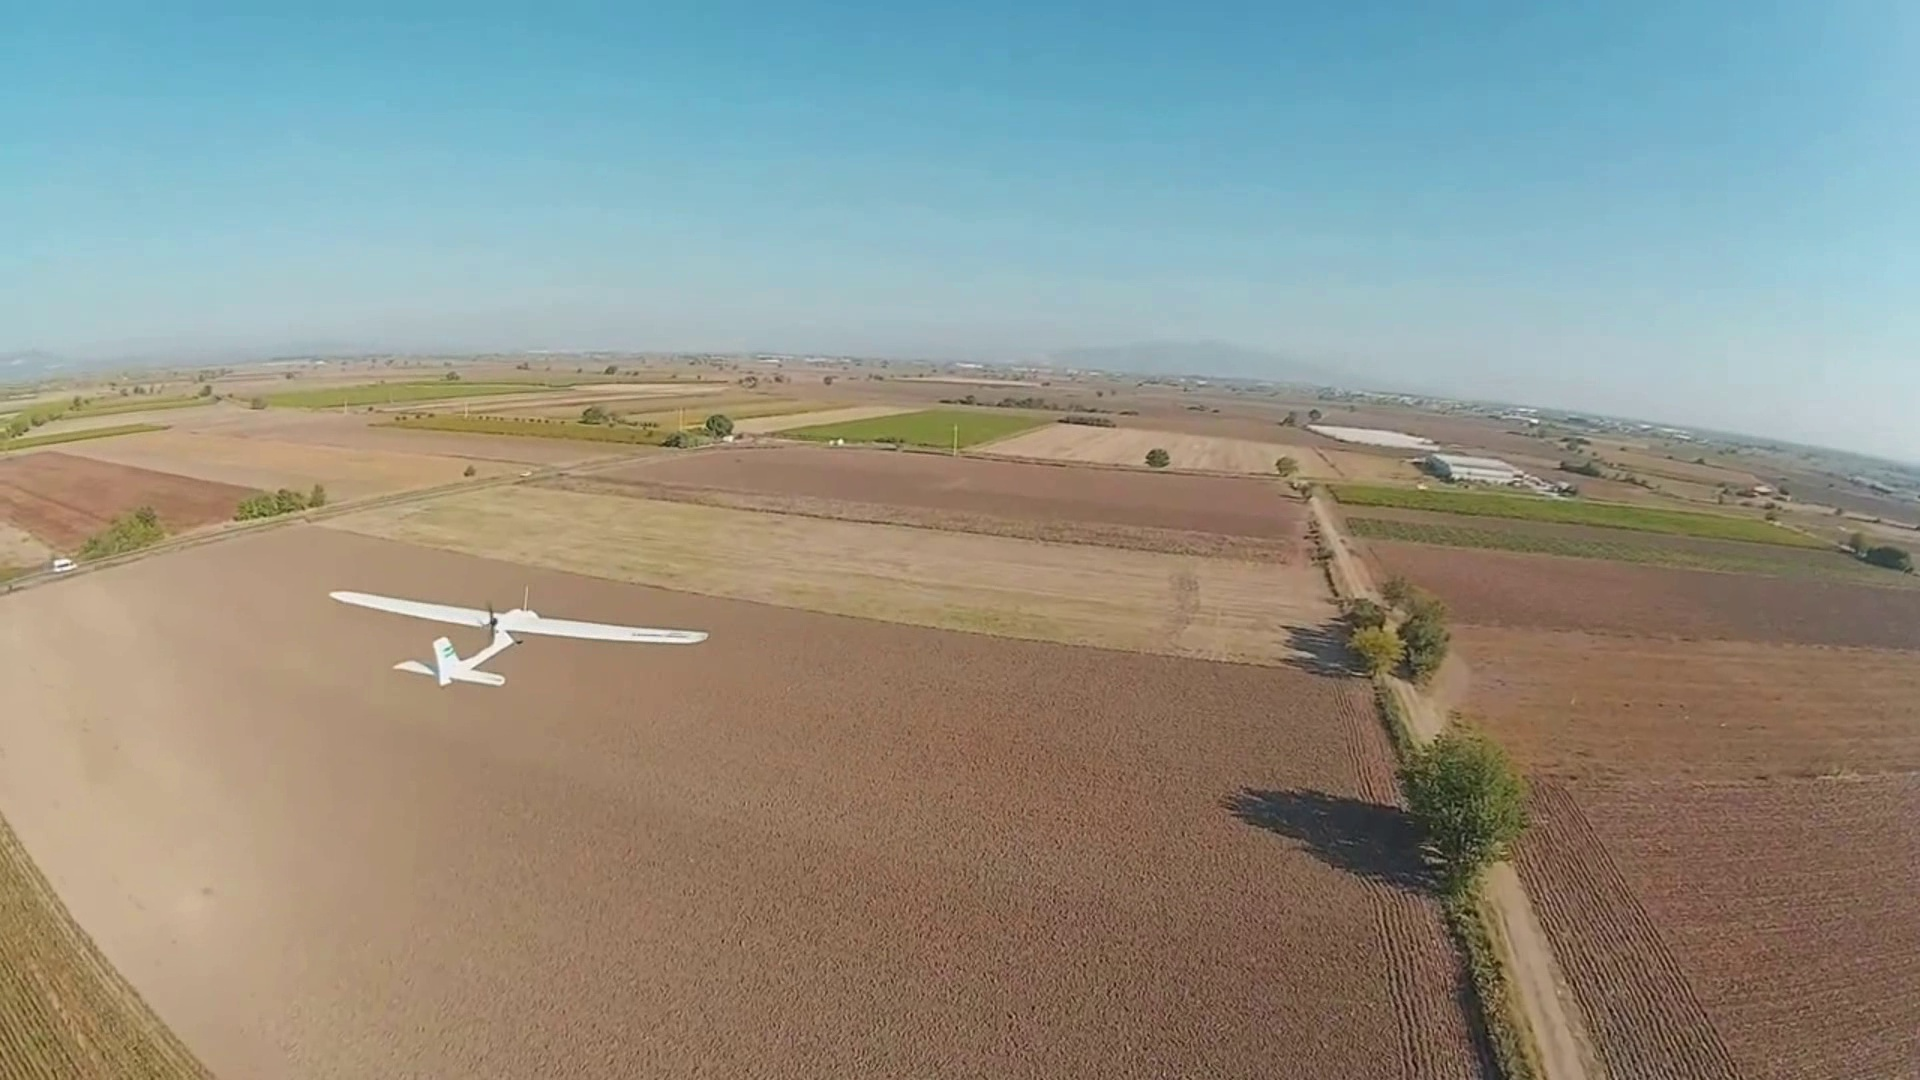airplane: (326, 591, 711, 687)
